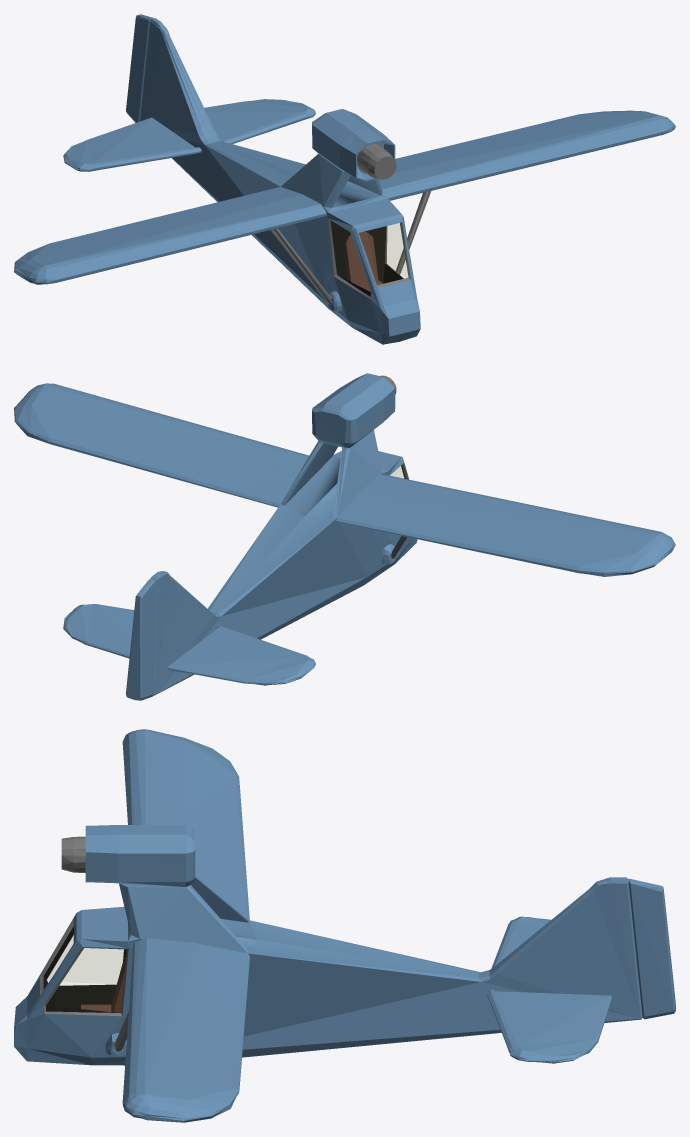
Rendered from aircraft_6_breakaway.glb.
The picture shows the model from 3 angles, top to bottom: view 1: azimuth 30°, elevation 25°; view 2: azimuth 150°, elevation 25°; view 3: azimuth 270°, elevation 25°; orthographic projection. The views are drawn at different scales.
Parts seen in each view (by area): view 1: Airframe, OuterWingRight, OuterWingLeft, VerticalTip, HorizontalTipRight, HorizontalTipLeft, tripo_node_68e8f659.001; view 2: Airframe, OuterWingRight, OuterWingLeft, HorizontalTipRight, VerticalTip, HorizontalTipLeft; view 3: Airframe, OuterWingLeft, OuterWingRight, VerticalTip, HorizontalTipLeft, HorizontalTipRight, tripo_node_68e8f659.001.
Part boxes in pixels (x1,y1,x2,y2): Airframe: [108, 58, 555, 344]; OuterWingRight: [14, 228, 161, 284]; OuterWingLeft: [514, 110, 675, 160]; VerticalTip: [131, 14, 198, 101]; HorizontalTipRight: [63, 133, 154, 171]; HorizontalTipLeft: [219, 99, 315, 134]; tripo_node_68e8f659.001: [345, 231, 382, 292]; Airframe: [107, 373, 552, 700]; OuterWingRight: [510, 509, 675, 576]; OuterWingLeft: [14, 383, 158, 461]; HorizontalTipRight: [219, 638, 315, 685]; VerticalTip: [131, 571, 198, 642]; HorizontalTipLeft: [63, 604, 134, 651]; Airframe: [14, 795, 675, 1065]; OuterWingLeft: [122, 1033, 242, 1122]; OuterWingRight: [122, 729, 242, 816]; VerticalTip: [527, 877, 668, 949]; HorizontalTipLeft: [496, 1015, 602, 1063]; HorizontalTipRight: [496, 916, 551, 954]; tripo_node_68e8f659.001: [43, 956, 126, 1012].
Bounding box in the file's own units: 11.95 × 3.38 × 8.76.
